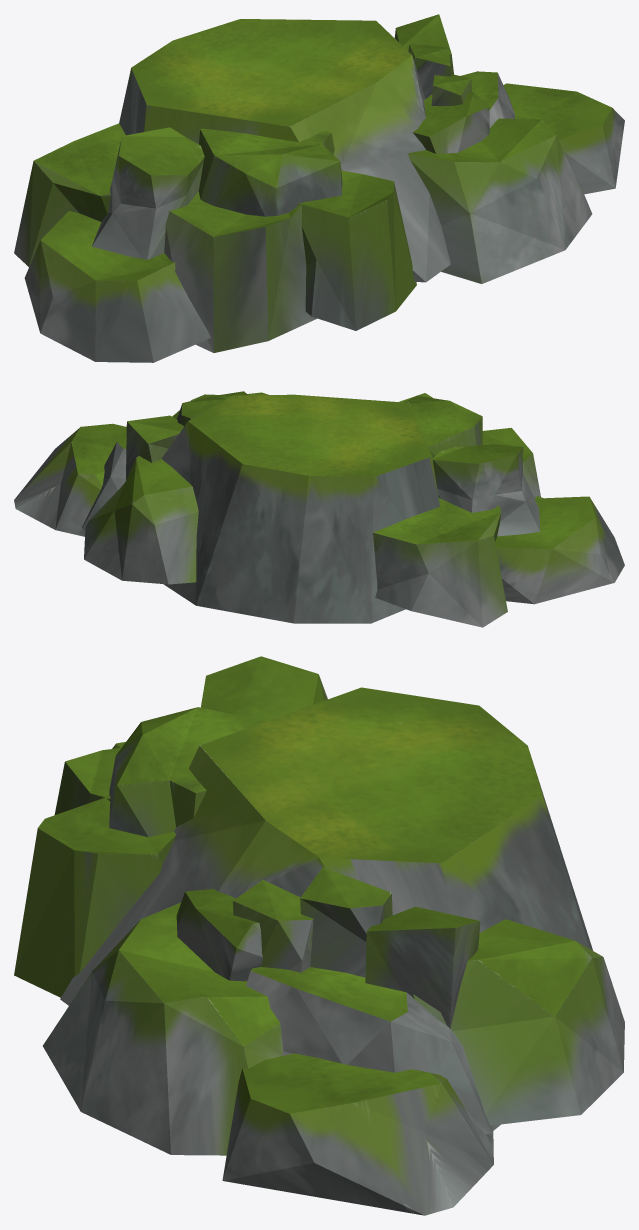
File: Hill.gltf
3 views of the same model, one above another, from view 1: azimuth 30°, elevation 25°; view 2: azimuth 150°, elevation 25°; view 3: azimuth 270°, elevation 25° (orthographic). The views are drawn at different scales.
Parts seen in each view (by area): view 1: Hill_Plateau, HillPiece.056, HillPiece.059, HillPiece.054, HillPiece.057, HillPiece.047, HillPiece.049, HillPiece.046, HillPiece.058, HillPiece.053, HillPiece.055, HillPiece.051 (+2 smaller); view 2: Hill_Plateau, HillPiece.046, HillPiece.048, HillPiece.059, HillPiece.058, HillPiece.049, HillPiece.047, HillPiece.052, HillPiece.055, HillPiece.054, HillPiece.051; view 3: Hill_Plateau, HillPiece.056, HillPiece.058, HillPiece.048, HillPiece.057, HillPiece.055, HillPiece.047, HillPiece.052, HillPiece.051, HillPiece.049, HillPiece.053, HillPiece.050 (+1 smaller).
Part boxes in pixels (x1,y1,x2,y2): Hill_Plateau: (119,19,450,282); HillPiece.056: (408,118,592,283); HillPiece.059: (24,211,210,362); HillPiece.054: (164,192,316,352); HillPiece.057: (298,170,416,330); HillPiece.047: (198,128,342,216); HillPiece.049: (92,127,204,259); HillPiece.046: (14,123,125,266); HillPiece.058: (503,83,624,194); HillPiece.053: (413,91,489,153); HillPiece.055: (461,71,514,127); HillPiece.051: (408,44,451,98); Hill_Plateau: (162,394,439,623); HillPiece.046: (373,498,507,627); HillPiece.048: (84,456,198,584); HillPiece.059: (495,495,624,604); HillPiece.058: (14,423,126,536); HillPiece.049: (432,444,540,536); HillPiece.047: (404,395,482,458); HillPiece.052: (126,415,183,479); HillPiece.055: (82,438,126,529); HillPiece.054: (482,427,540,498); HillPiece.051: (177,396,226,426); Hill_Plateau: (60,687,592,1130); HillPiece.056: (43,902,283,1155); HillPiece.058: (222,1053,493,1215); HillPiece.048: (412,919,624,1125); HillPiece.057: (14,796,176,997); HillPiece.055: (246,967,494,1134); HillPiece.047: (109,707,265,836); HillPiece.052: (365,906,480,1028); HillPiece.051: (300,867,392,977); HillPiece.049: (200,656,327,721); HillPiece.053: (176,889,262,981); HillPiece.050: (233,880,313,972).
Bounding box in the file's own units: 44.93 × 11.21 × 27.01.
1 material, 1 textured.
